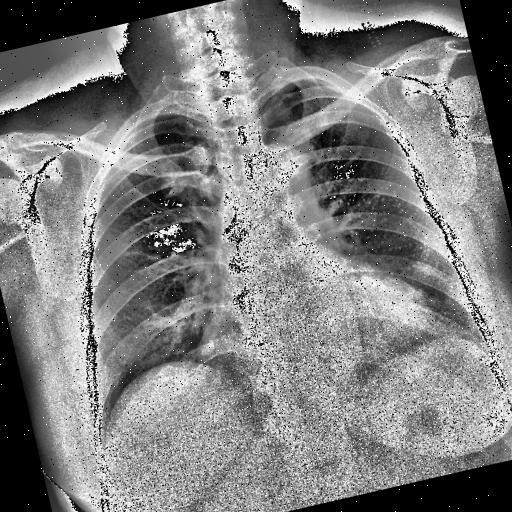0- Aortic enlargement: (238, 132, 320, 216), (252, 138, 316, 220), (258, 137, 311, 185)
11- Pleural thickening: (262, 74, 330, 102)
3- Cardiomegaly: (185, 266, 465, 421), (190, 266, 442, 397), (198, 274, 444, 394)
